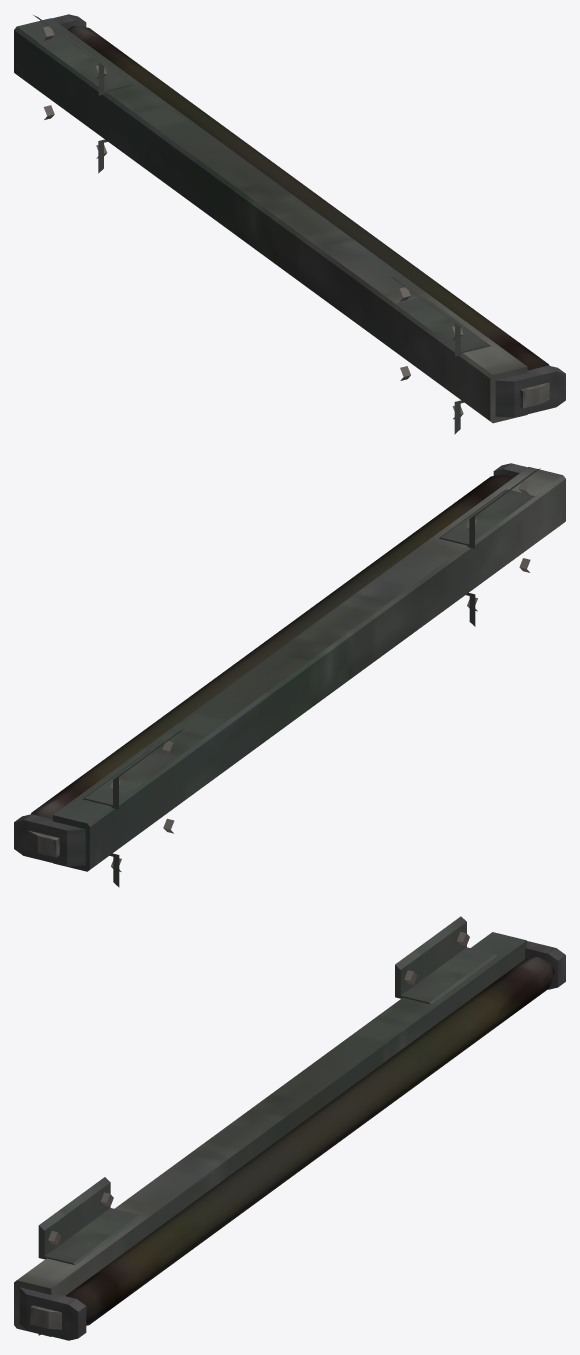
Rendered from prison_flourescentlight002b.glb.
The picture shows the model from 3 angles, top to bottom: view 1: azimuth 30°, elevation 25°; view 2: azimuth 150°, elevation 25°; view 3: azimuth 330°, elevation 25°; orthographic projection.
Parts seen in each view (by area): view 1: 0_prison_objects004; view 2: 0_prison_objects004; view 3: 0_prison_objects004.
Part boxes in pixels (<box>): 0_prison_objects004: <box>14,14,565,434</box>; 0_prison_objects004: <box>14,463,565,887</box>; 0_prison_objects004: <box>14,916,565,1340</box>.
Bounding box in the file's own units: 0.1431 × 0.1958 × 1.58.
Materials: 1 (1 with a texture image).
